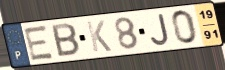0: (170, 9, 200, 46)
8: (113, 16, 140, 51)
B: (50, 22, 82, 59)
E: (22, 24, 57, 63)
J: (149, 12, 171, 47)
K: (85, 19, 114, 54)
